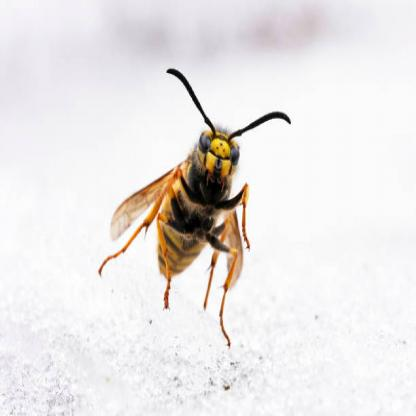sawfly: (90, 61, 294, 346)
